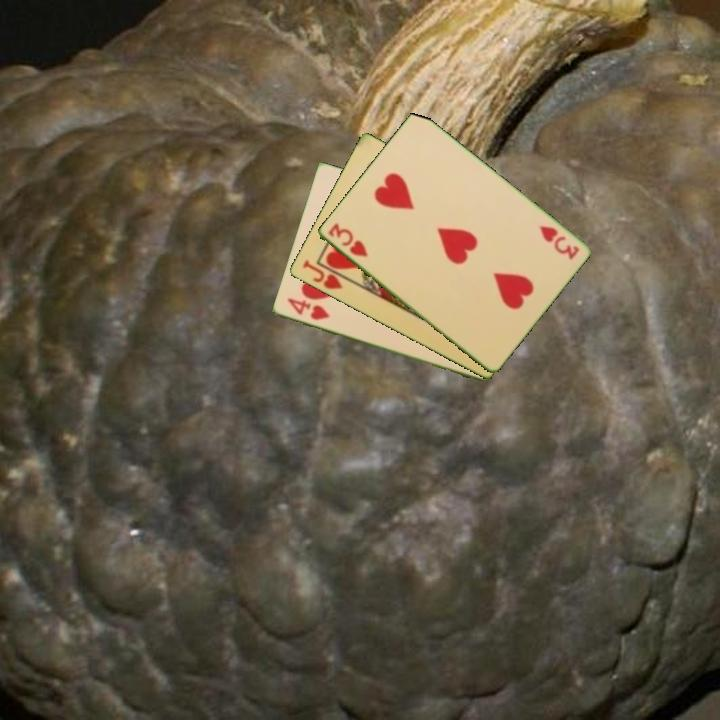3h: (324, 219, 371, 260), (536, 222, 582, 263)
4h: (283, 295, 332, 323)
Jh: (299, 256, 353, 292)
